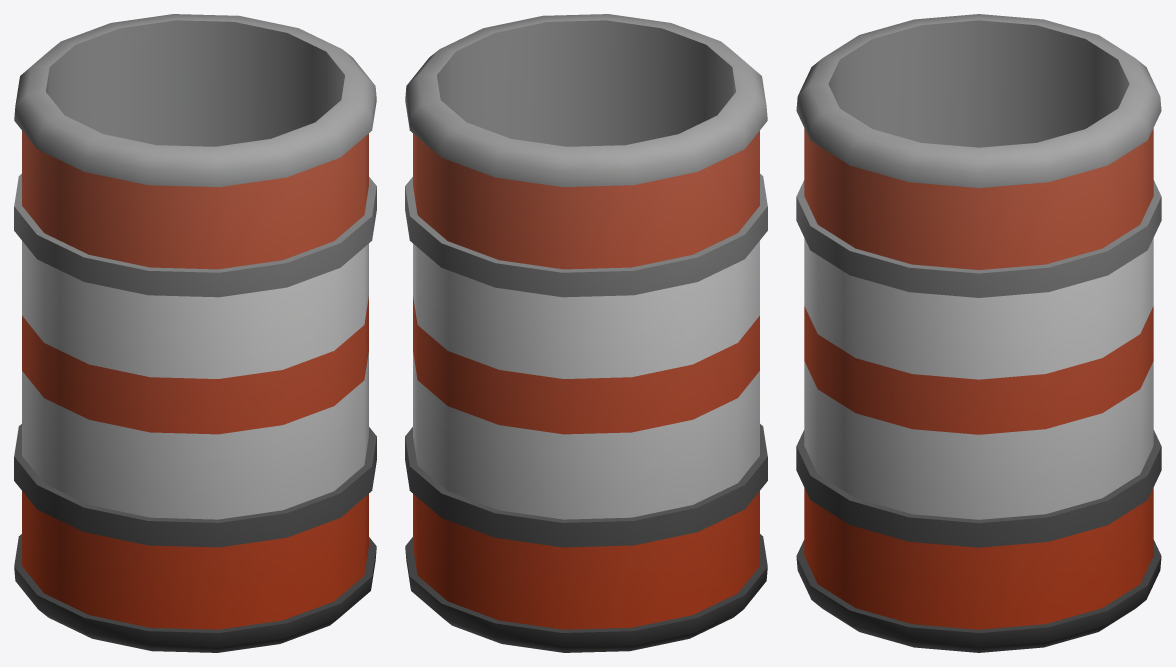
Rendered from Barrel02.fbx.
3 views of the same model, side by side, from view 1: azimuth 30°, elevation 25°; view 2: azimuth 150°, elevation 25°; view 3: azimuth 270°, elevation 25° (orthographic).
Parts seen in each view (by area): view 1: Barrel02; view 2: Barrel02; view 3: Barrel02.
Part boxes in pixels (box(x1,y1,x2,y2)): Barrel02: box(14, 14, 376, 652); Barrel02: box(405, 14, 767, 652); Barrel02: box(796, 14, 1161, 652).
Size of the model in its own units: 0.7604 by 0.7604 by 1.15.
